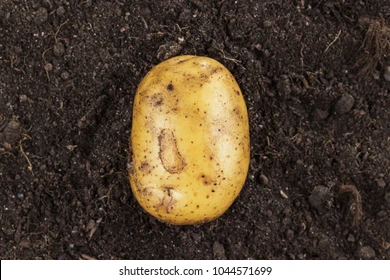potato: (124, 52, 263, 246)
